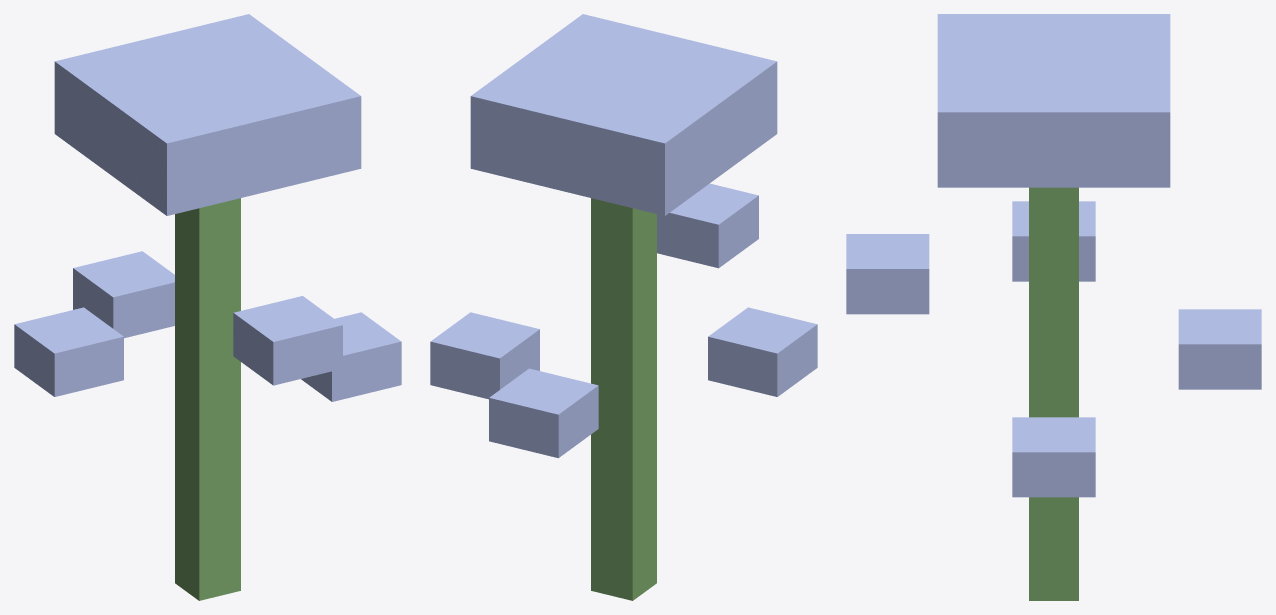
The model's file is Prop_DS_Herb_LatencyLily_S3_V1.glb.
3 views of the same model, side by side, from view 1: azimuth 30°, elevation 25°; view 2: azimuth 150°, elevation 25°; view 3: azimuth 270°, elevation 25° (orthographic). The views are drawn at different scales.
Parts seen in each view (by area): view 1: Cube.005, Cube, Cube.004, Cube.003, Cube.002, Cube.001; view 2: Cube.005, Cube, Cube.003, Cube.002, Cube.001, Cube.004; view 3: Cube.005, Cube, Cube.001, Cube.002, Cube.004, Cube.003.
Part boxes in pixels (left/top/right/bottom): Cube.005: left=54, top=14, right=361, bottom=215; Cube: left=175, top=198, right=240, bottom=600; Cube.004: left=233, top=296, right=342, bottom=385; Cube.003: left=14, top=307, right=123, bottom=396; Cube.002: left=73, top=251, right=174, bottom=338; Cube.001: left=301, top=312, right=401, bottom=401; Cube.005: left=470, top=14, right=777, bottom=215; Cube: left=591, top=198, right=656, bottom=600; Cube.003: left=708, top=307, right=817, bottom=396; Cube.002: left=489, top=368, right=598, bottom=458; Cube.001: left=430, top=312, right=539, bottom=399; Cube.004: left=657, top=183, right=758, bottom=268; Cube.005: left=937, top=14, right=1170, bottom=187; Cube: left=1029, top=187, right=1078, bottom=600; Cube.001: left=1012, top=417, right=1095, bottom=497; Cube.002: left=1178, top=309, right=1261, bottom=389; Cube.004: left=846, top=234, right=929, bottom=314; Cube.003: left=1012, top=201, right=1095, bottom=281.
Size of the model in its own units: 0.5 by 0.7 by 0.5.
